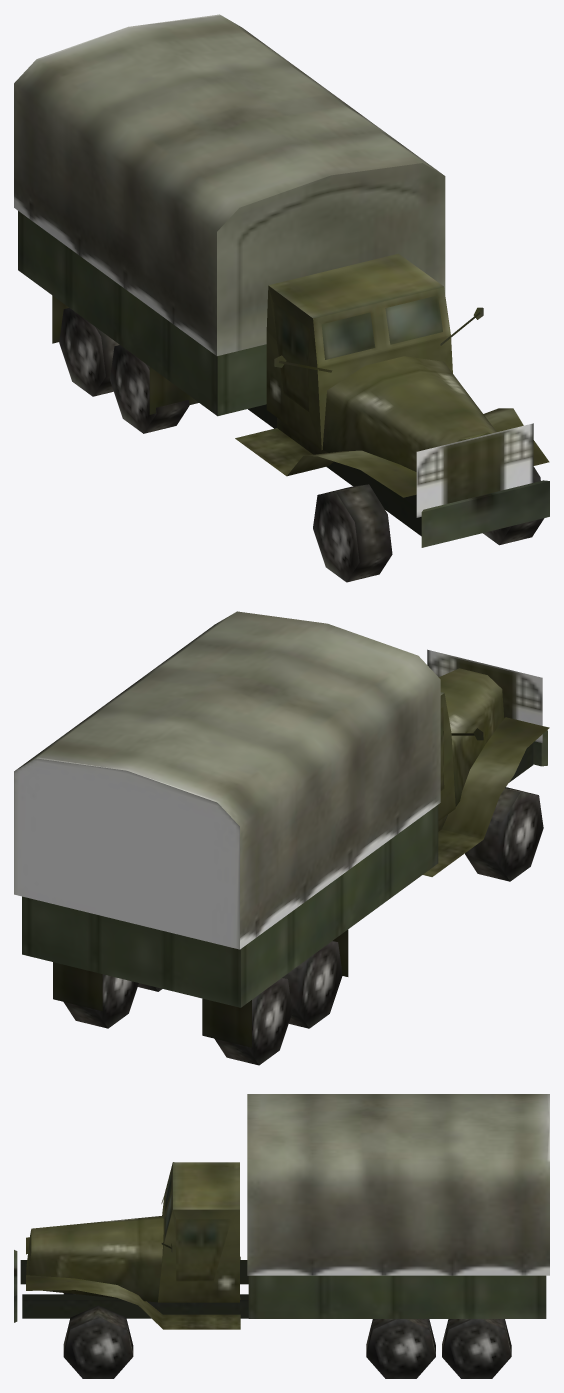
File: AutomobileLode.FBX
3 views of the same model, one above another, from view 1: azimuth 30°, elevation 25°; view 2: azimuth 150°, elevation 25°; view 3: azimuth 270°, elevation 25° (orthographic). The views are drawn at different scales.
Visible parts, largest first — view 1: Lode, Automobile, Wheel1, Wheel5, Wheel3, Glass2, Glass3, Glass1, Wheel2; view 2: Lode, Automobile, Wheel1, Wheel3, Wheel5, Wheel6; view 3: Lode, Automobile, Wheel2, Wheel6, Wheel4, Glass4.
Boxes of the visible parts, x1,y1,x2,y2 form: Lode: (14,14,445,355); Automobile: (18,211,549,547); Wheel1: (313,484,392,582); Wheel5: (59,308,119,396); Wheel3: (110,345,189,433); Glass2: (273,302,309,411); Glass3: (385,295,442,344); Glass1: (321,312,375,359); Wheel2: (483,467,544,545); Lode: (14,611,440,949); Automobile: (22,649,549,1047); Wheel1: (465,787,543,881); Wheel3: (282,941,342,1028); Wheel5: (214,977,292,1065); Wheel6: (63,974,138,1028); Lode: (247,1094,549,1275); Automobile: (14,1162,546,1329); Wheel2: (63,1305,133,1378); Wheel6: (442,1319,511,1378); Wheel4: (366,1319,435,1378); Glass4: (176,1219,231,1281).
Bounding box in the file's own units: 278 × 758 × 353.
